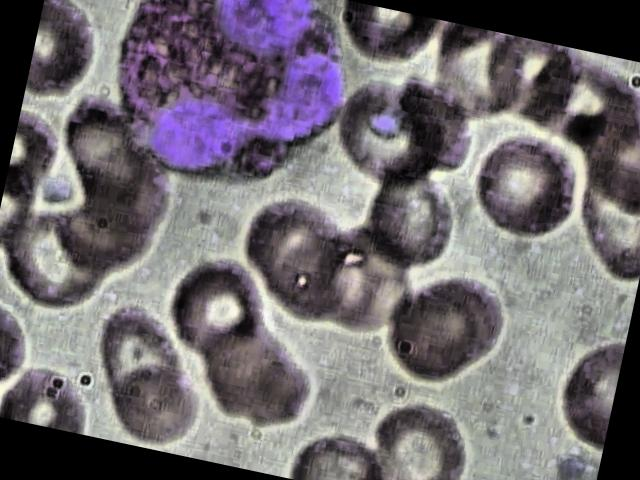Platelets: (546, 444, 594, 480), (38, 174, 80, 210)
RBC: (324, 66, 452, 190), (391, 265, 526, 382), (466, 123, 592, 248), (80, 300, 197, 414), (163, 246, 272, 362), (376, 282, 484, 392), (104, 352, 220, 450), (364, 388, 480, 480), (563, 170, 640, 290), (572, 92, 640, 201)
WBC: (83, 0, 376, 211)
